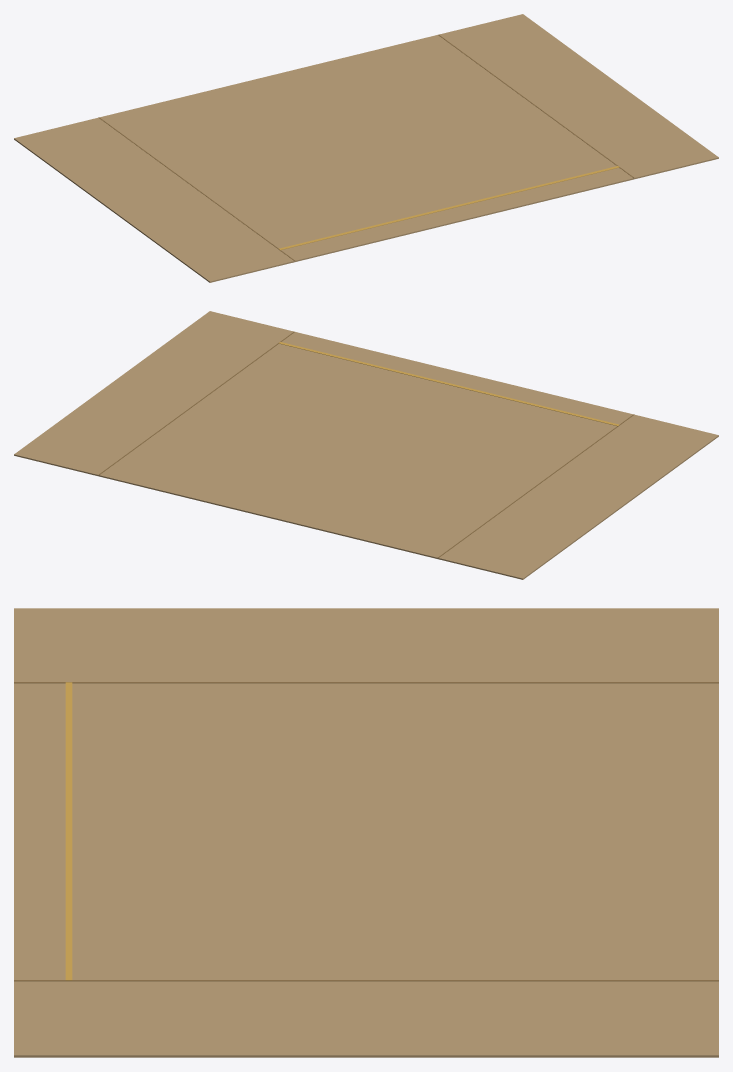
The model's file is paper.glb.
The picture shows the model from 3 angles, top to bottom: view 1: azimuth 30°, elevation 25°; view 2: azimuth 150°, elevation 25°; view 3: azimuth 270°, elevation 25°; orthographic projection. The views are drawn at different scales.
Visible parts, largest first — view 1: DieCutSideSeamBlank, ActualSideSeamGlueBead; view 2: DieCutSideSeamBlank, ActualSideSeamGlueBead; view 3: DieCutSideSeamBlank, ActualSideSeamGlueBead, Crease0.16, Crease-0.16.
Part boxes in pixels (x1,y1,x2,y2): DieCutSideSeamBlank: (14,14,718,282); ActualSideSeamGlueBead: (279,166,619,250); DieCutSideSeamBlank: (14,311,718,579); ActualSideSeamGlueBead: (278,342,619,426); DieCutSideSeamBlank: (14,608,718,1057); ActualSideSeamGlueBead: (65,682,72,980); Crease0.16: (14,980,718,981); Crease-0.16: (14,682,718,683).
Bounding box in the file's own units: 0.48 × 0.00151 × 0.32.
